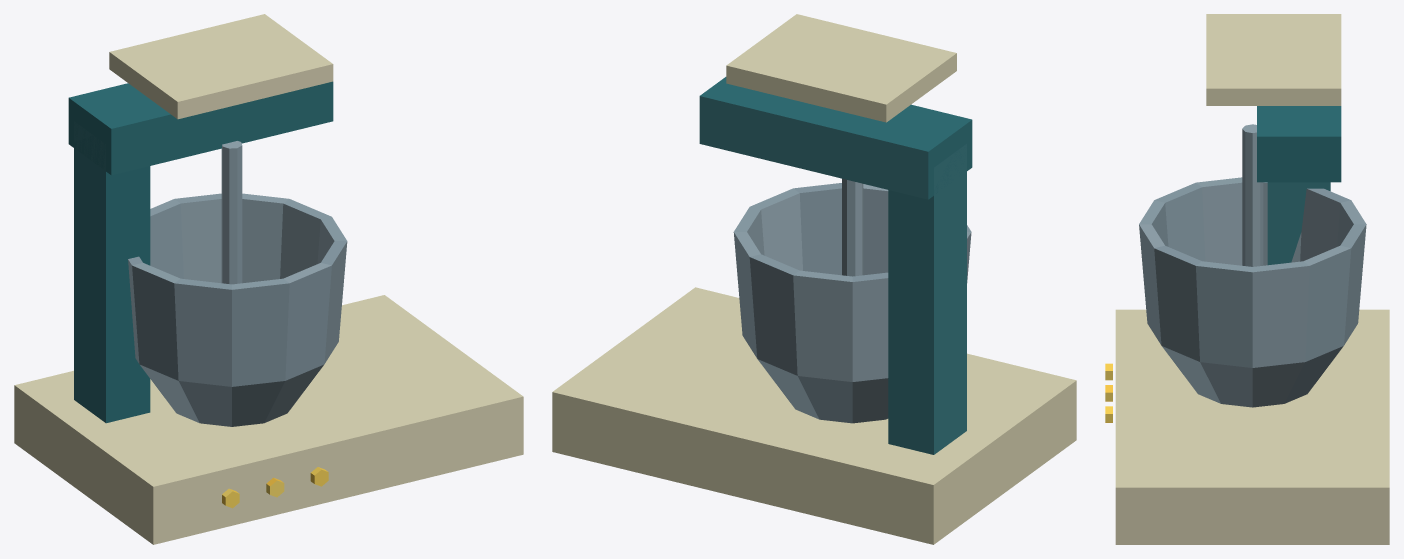
The model's file is C04_MayonnaiseMixer.fbx.
3 views of the same model, side by side, from view 1: azimuth 30°, elevation 25°; view 2: azimuth 150°, elevation 25°; view 3: azimuth 270°, elevation 25° (orthographic). The views are drawn at different scales.
Visible parts, largest first — view 1: C04_MayonnaiseMixer.003; view 2: C04_MayonnaiseMixer.003; view 3: C04_MayonnaiseMixer.003.
Part boxes in pixels (x1=…): C04_MayonnaiseMixer.003: x1=14, y1=14, x2=523, y2=544; C04_MayonnaiseMixer.003: x1=552, y1=14, x2=1076, y2=544; C04_MayonnaiseMixer.003: x1=1105, y1=14, x2=1389, y2=544.
Bounding box in the file's own units: 1 × 1.01 × 0.675.
